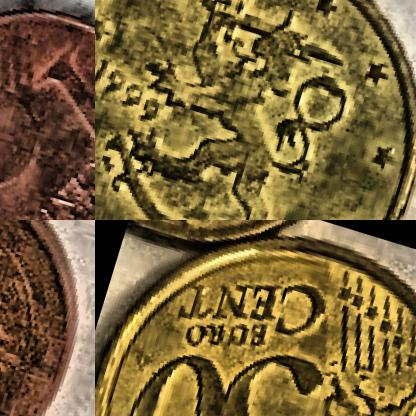coin: (95, 0, 415, 219), (95, 220, 415, 415), (0, 0, 94, 219), (0, 220, 94, 415)
